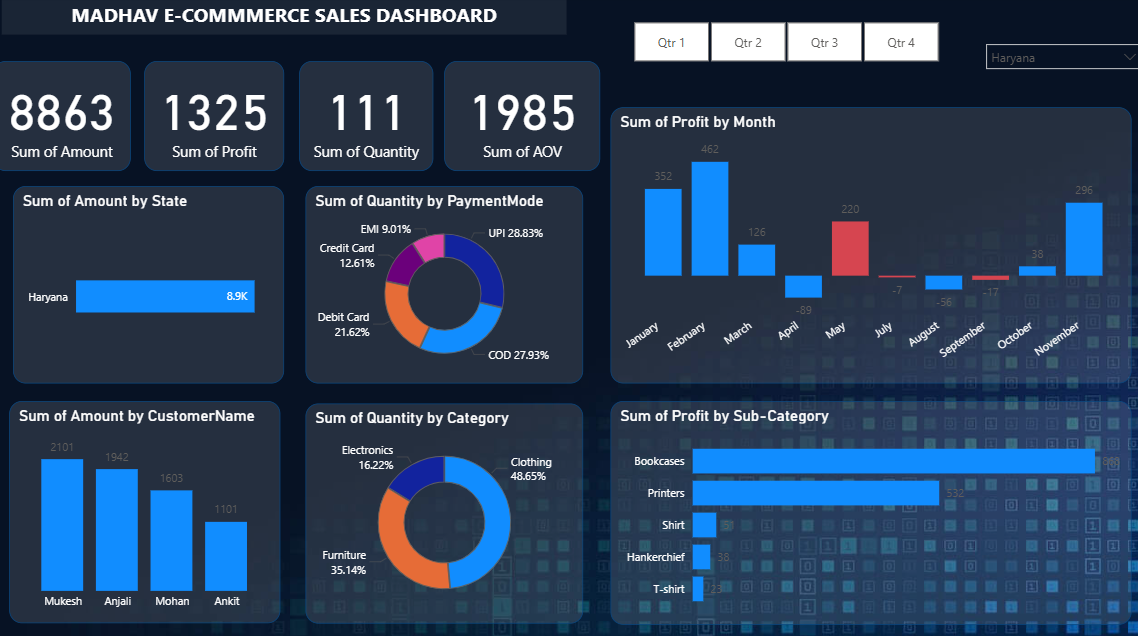

This screenshot's page, from the dashboard's own definition file:
{"tool":"powerbi","page":{"name":"Page 1","canvas":[1280,720],"ordinal":0},"visuals":[{"type":"textbox","box":[9.6,0,620.2,42.5],"z":0},{"type":"columnChart","fields":{"Category":["Orders - Orders.Order Date.Variation.Date Hierarchy.Month"],"Y":["Details - Details.Profit"]},"box":[677.9,122.1,572.2,303.3],"z":1000},{"type":"clusteredBarChart","fields":{"Category":["Details - Details.Sub-Category"],"Y":["Details - Details.Profit"]},"box":[677.9,444.6,572.2,245.6],"z":2000},{"type":"donutChart","fields":{"Category":["Details - Details.Category"],"Y":["Details - Details.Quantity"]},"box":[343.1,447.3,304.6,241.5],"z":3000},{"type":"donutChart","fields":{"Y":["Details - Details.Quantity"],"Category":["Details - Details.PaymentMode"]},"box":[343.1,208.6,304.6,216.8],"z":4000},{"type":"card","fields":{"Values":["Details - Details.Amount"]},"box":[0,71.4,150.9,120.8],"z":5000},{"type":"card","fields":{"Values":["Details - Details.Profit"]},"box":[166,71.4,153.7,120.8],"z":6000},{"type":"card","fields":{"Values":["Details - Details.Quantity"]},"box":[336.2,71.4,146.8,120.8],"z":7000},{"type":"card","fields":{"Values":["Details - Details.AOV"]},"box":[495.4,71.4,171.5,120.8],"z":8000},{"type":"clusteredBarChart","fields":{"Category":["Orders - Orders.State"],"Y":["Details - Details.Amount"]},"box":[22,208.6,297.8,216.8],"z":9000},{"type":"columnChart","fields":{"Category":["Orders - Orders.CustomerName"],"Y":["Details - Details.Amount"]},"box":[17.8,444.6,297.8,244.3],"z":10000},{"type":"slicer","fields":{"Values":["Orders - Orders.Order Date.Variation.Date Hierarchy.Quarter"]},"box":[677.9,22,384.2,56.3],"z":10001},{"type":"slicer","fields":{"Values":["Orders - Orders.State"]},"box":[1079.9,42.5,190.7,56.3],"z":10002}]}

Visuals, with their boxes in screenshot pixels (x1, y1, x2, y2), scaled from the page's 1280x720 canvas onto the 1138x636 screenshot:
textbox: box=[9, 0, 560, 38]
columnChart - Orders - Orders.Order Date.Variation.Date Hierarchy.Month x Details - Details.Profit: box=[603, 108, 1111, 376]
clusteredBarChart - Details - Details.Sub-Category x Details - Details.Profit: box=[603, 393, 1111, 610]
donutChart - Details - Details.Category x Details - Details.Quantity: box=[305, 395, 576, 608]
donutChart - Details - Details.Quantity x Details - Details.PaymentMode: box=[305, 184, 576, 376]
card - Details - Details.Amount: box=[0, 63, 134, 170]
card - Details - Details.Profit: box=[148, 63, 284, 170]
card - Details - Details.Quantity: box=[299, 63, 429, 170]
card - Details - Details.AOV: box=[440, 63, 593, 170]
clusteredBarChart - Orders - Orders.State x Details - Details.Amount: box=[20, 184, 284, 376]
columnChart - Orders - Orders.CustomerName x Details - Details.Amount: box=[16, 393, 281, 609]
slicer - Orders - Orders.Order Date.Variation.Date Hierarchy.Quarter: box=[603, 19, 944, 69]
slicer - Orders - Orders.State: box=[960, 38, 1130, 87]
